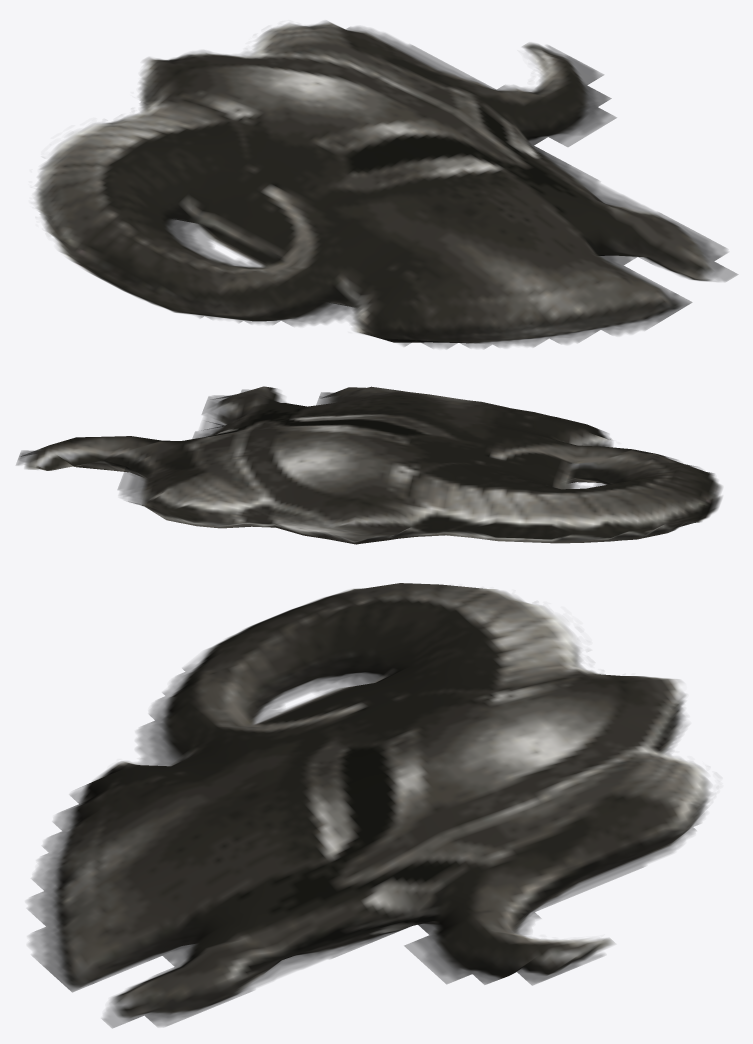
The model's file is drop_helm.glb.
3 renders of one model, top to bottom at view 1: azimuth 30°, elevation 25°; view 2: azimuth 150°, elevation 25°; view 3: azimuth 270°, elevation 25°, orthographic. The views are drawn at different scales.
Parts seen in each view (by area): view 1: drop_helm; view 2: drop_helm; view 3: drop_helm.
Part boxes in pixels (x1,y1,x2,y2): drop_helm: (34, 21, 737, 348); drop_helm: (16, 386, 721, 544); drop_helm: (27, 583, 711, 1027).
Size of the model in its own units: 0.5677 by 0.1151 by 0.4718.
Materials: 1 (1 with a texture image).
